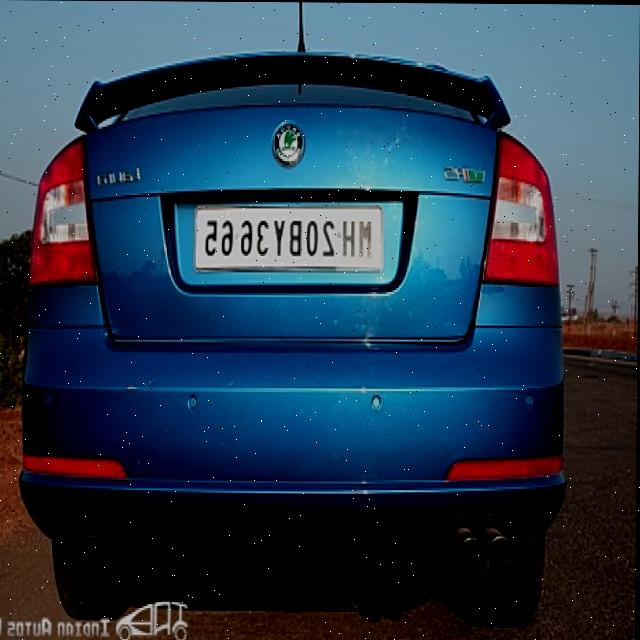plate: (194, 197, 388, 273)
